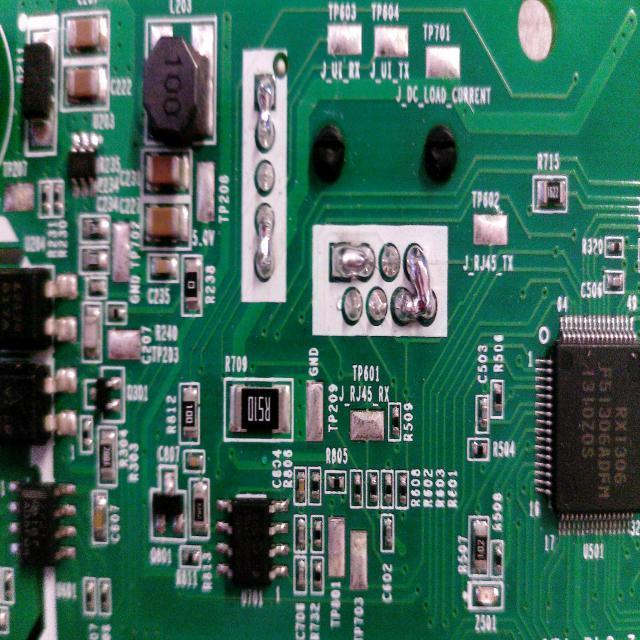Soldering shorted: (391, 234, 438, 325), (326, 236, 376, 284), (252, 200, 278, 284), (254, 75, 276, 153)
